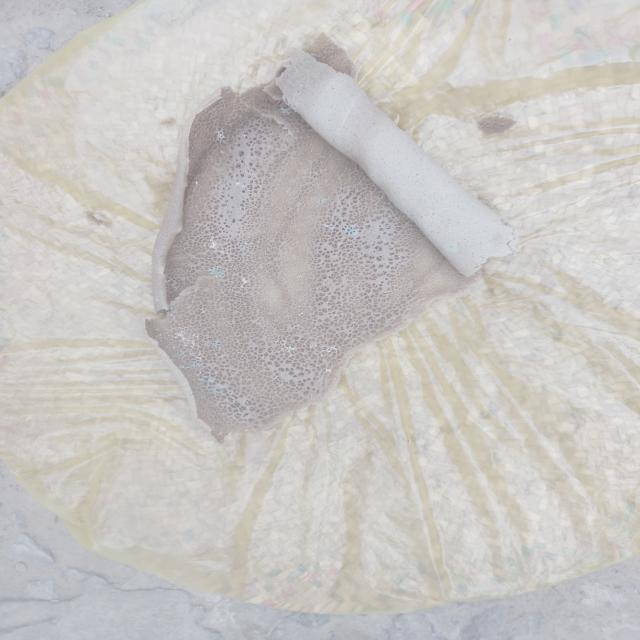injera_mold: (171, 328, 200, 347), (274, 340, 298, 355), (317, 344, 341, 358), (205, 238, 224, 253), (342, 224, 361, 238), (208, 338, 226, 352), (210, 128, 228, 142), (208, 265, 228, 277), (279, 106, 296, 116), (189, 359, 204, 370), (165, 306, 178, 318), (198, 377, 213, 387), (443, 243, 458, 253), (238, 276, 249, 288), (210, 388, 222, 397), (242, 241, 252, 251), (164, 337, 175, 346), (322, 366, 333, 374), (256, 263, 266, 271), (176, 348, 186, 356), (243, 413, 252, 421), (314, 199, 326, 204), (216, 431, 227, 436), (198, 308, 206, 314), (248, 406, 256, 412), (237, 181, 242, 186), (194, 180, 198, 186)
